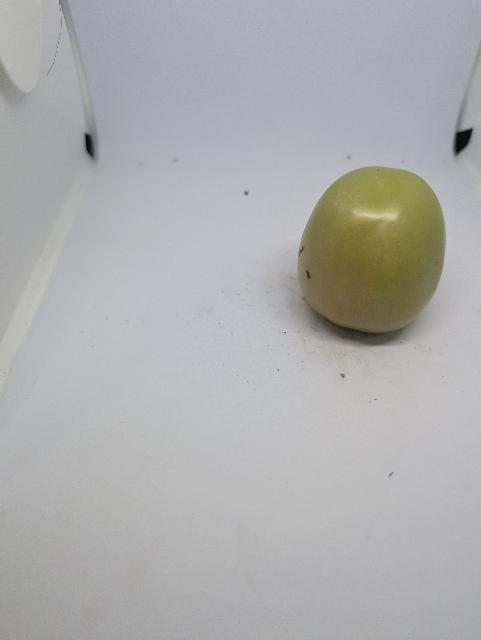breaker: (311, 161, 452, 342)
